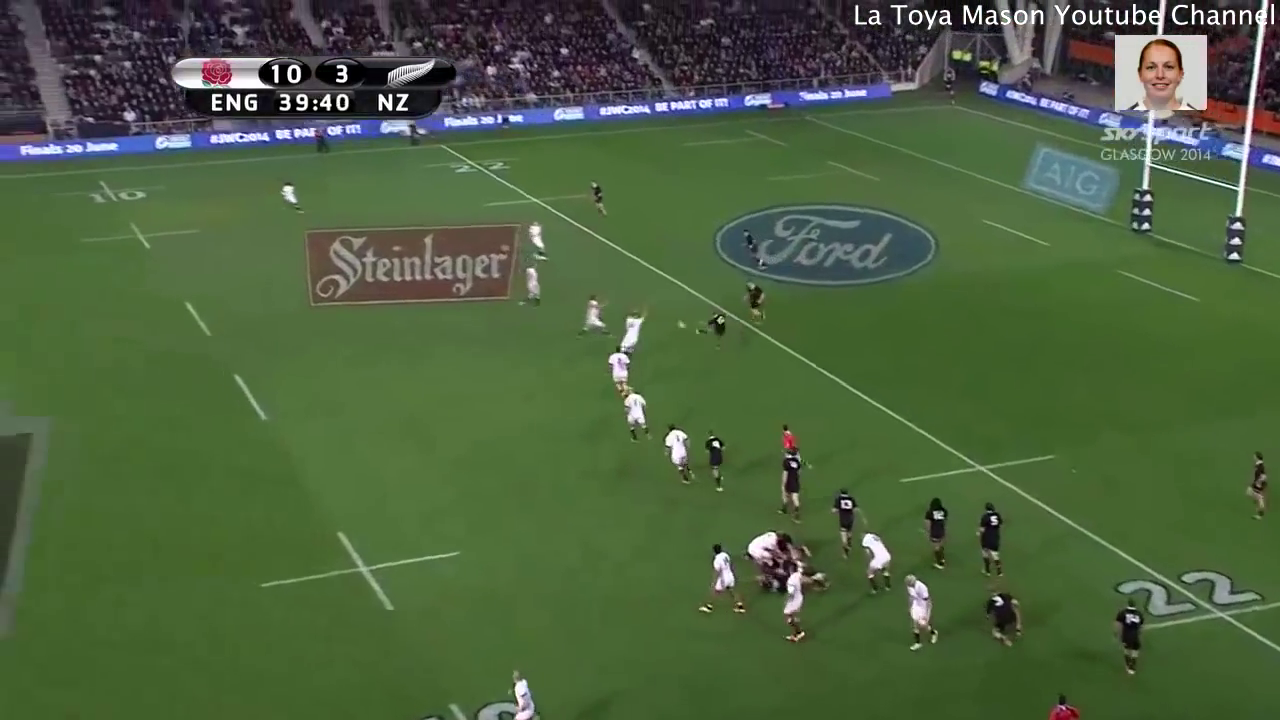10_metre: (253, 521, 472, 616), (73, 216, 205, 256), (49, 176, 173, 210)
player: (693, 536, 756, 627), (893, 566, 948, 652), (817, 481, 869, 568), (976, 580, 1034, 654), (1106, 592, 1149, 689), (915, 492, 961, 582), (658, 417, 709, 498), (762, 444, 809, 528), (855, 522, 901, 606), (776, 556, 813, 652), (971, 495, 1010, 583), (1239, 444, 1275, 533), (697, 423, 737, 502), (573, 292, 621, 347), (503, 662, 544, 720), (597, 344, 637, 397), (613, 301, 653, 352), (621, 383, 652, 447), (690, 304, 729, 354), (521, 216, 554, 273), (738, 275, 773, 328), (737, 224, 773, 274), (742, 526, 777, 575), (511, 258, 543, 309), (273, 175, 310, 219), (583, 172, 613, 222), (773, 415, 801, 453)
post: (1118, 1, 1273, 288)
ruck: (735, 517, 831, 604)
